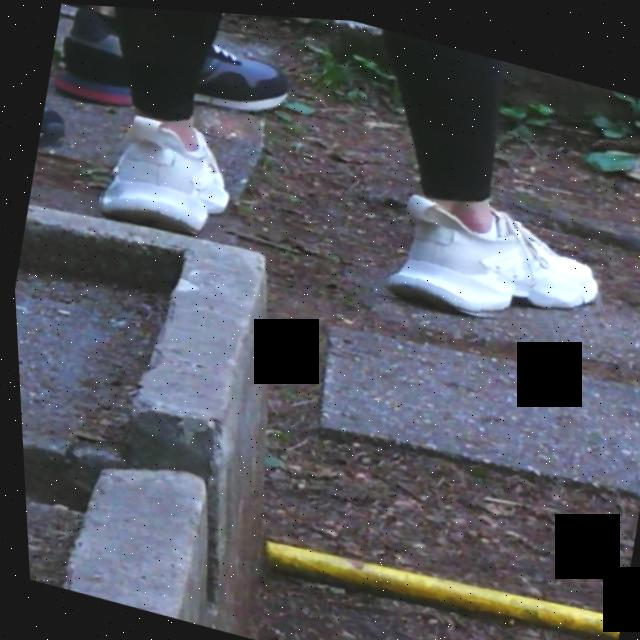shoe: (376, 184, 615, 344), (89, 105, 241, 242)
